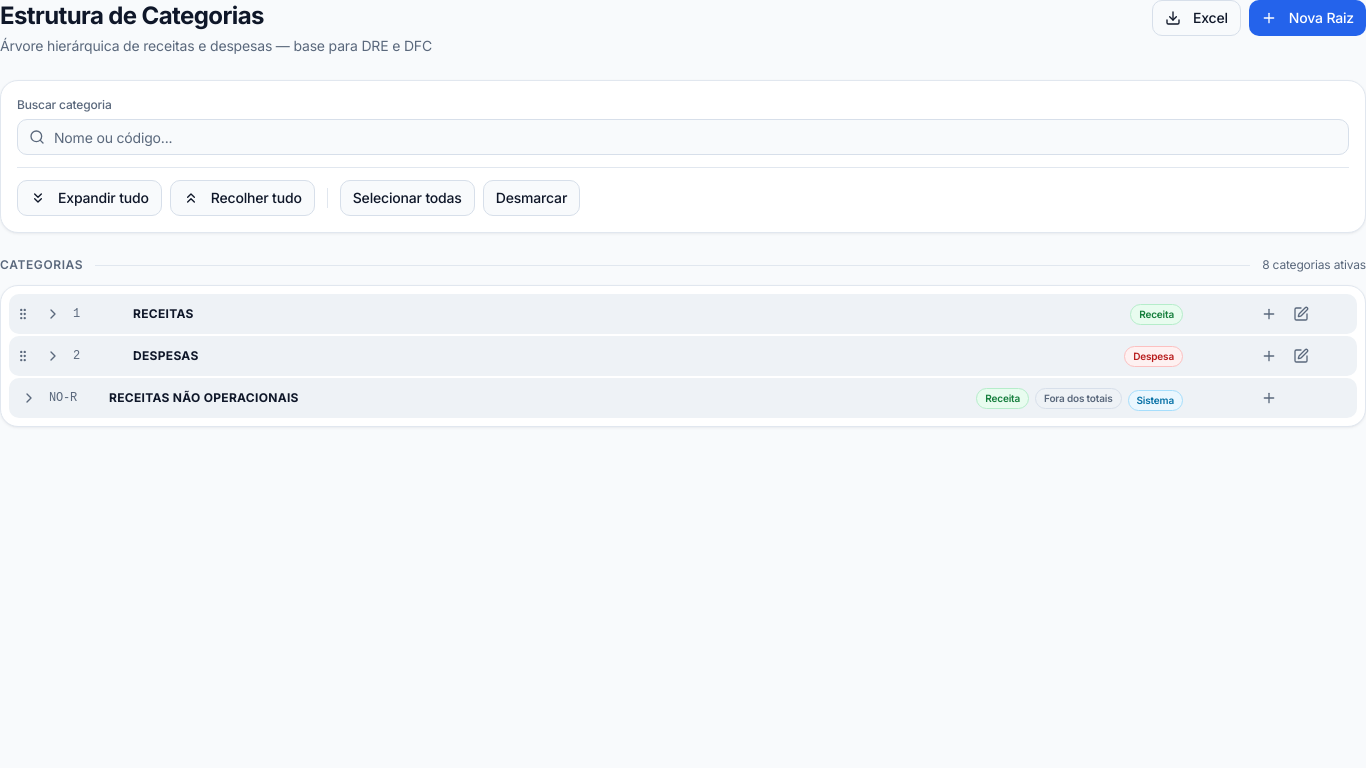
Test: Estrutura de Categorias (V2) › Nova Raiz abre o formulário com rótulos associados; fechar não grava
The image size is (1366, 768).
Expected: the text "RECEITAS" is shown, [133,306,194,322]
Click the button "Nova Raiz": {"x": 1307, "y": 18} [1249,0,1365,36]
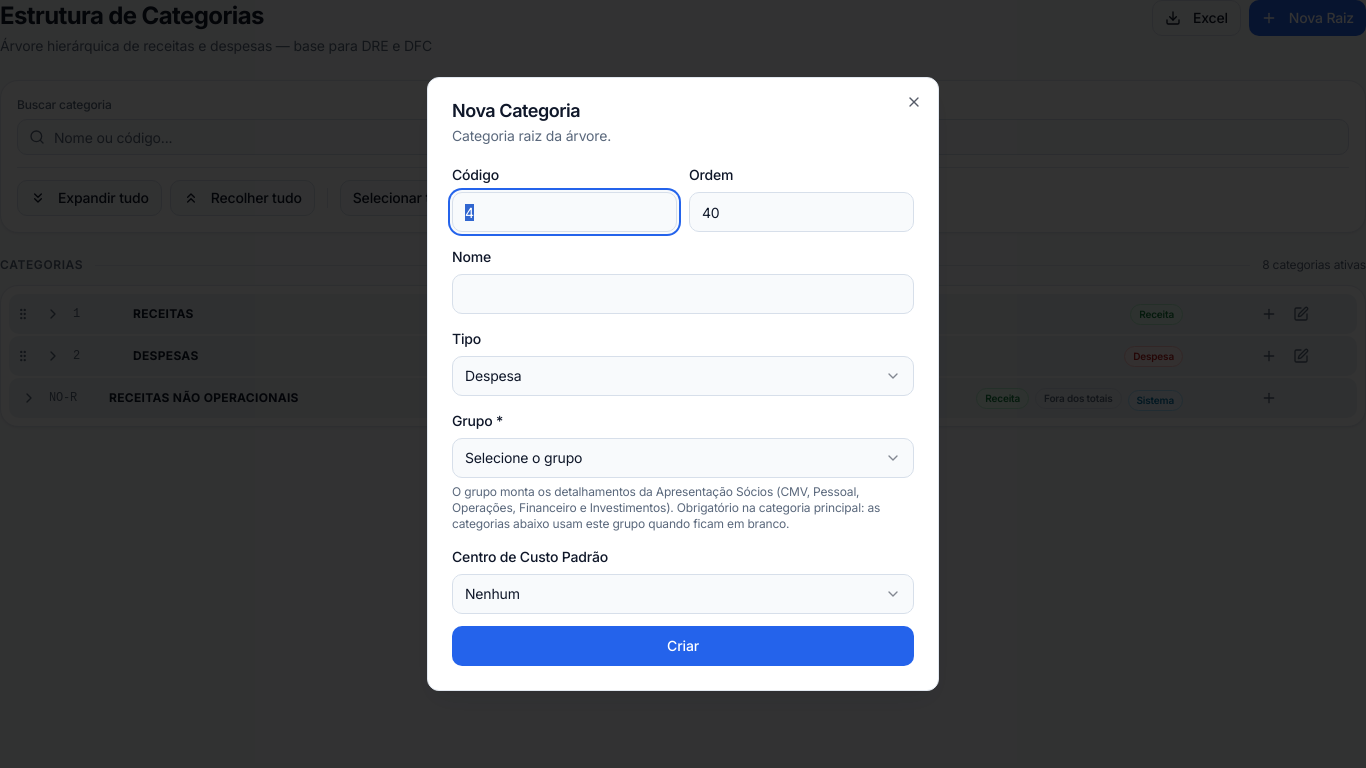
Result: the field labelled "Código" is shown at [452,192,677,232]
Result: the field labelled "Ordem" is shown at [689,192,914,232]
Result: the field labelled "Nome" is shown at [452,274,914,314]
Press Escape in the dialog "Nova Categoria", box [427,77,939,691]
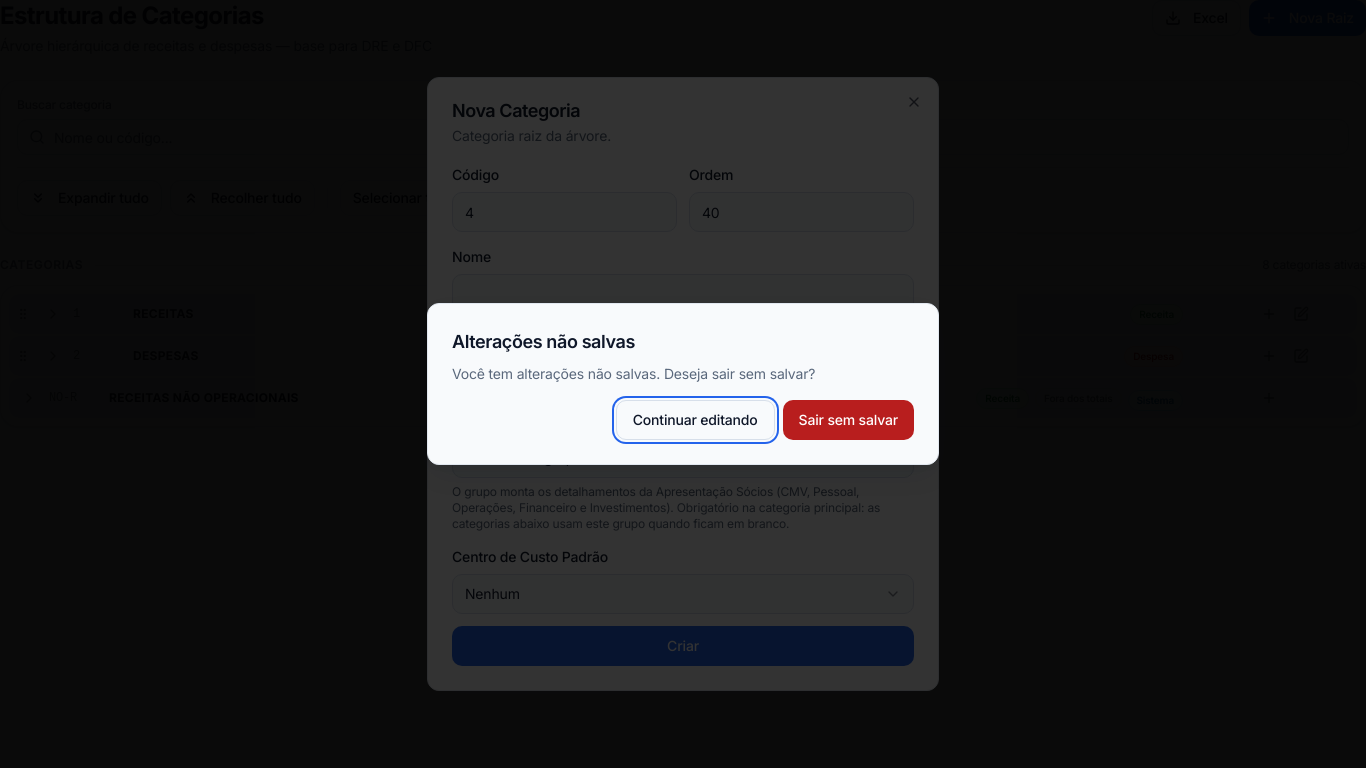
Click the button "Sair sem salvar": {"x": 848, "y": 420} [783,400,914,440]
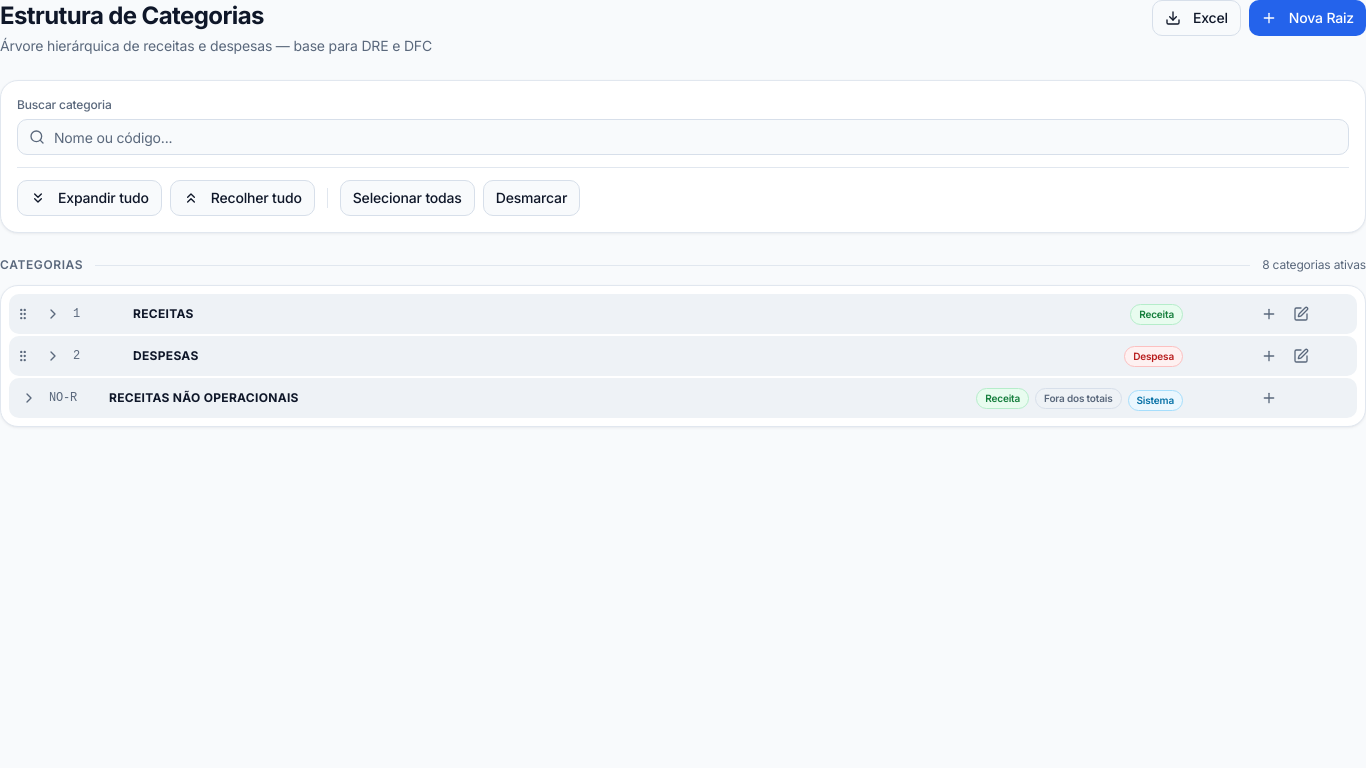
Result: the heading "Nova Categoria" is gone
